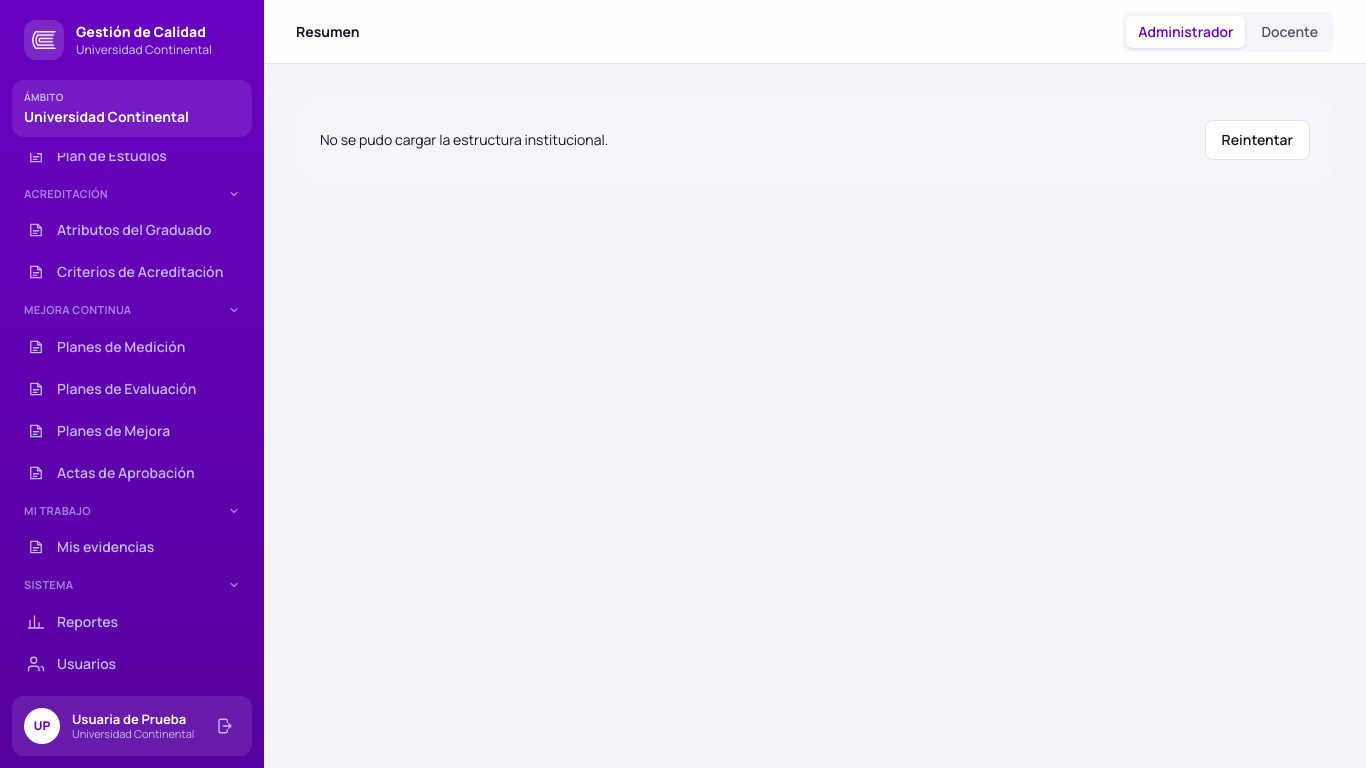
AppLayout — encabezado publicado por ResumenPage › el selector de vista no queda pegado al navegar a una página que no publica
(page scrolled)
Expected: the element named "Cambiar vista" is shown, [1122, 12, 1334, 52]
Click the link "Usuarios".
click(72, 663)  # box [27, 654, 116, 672]
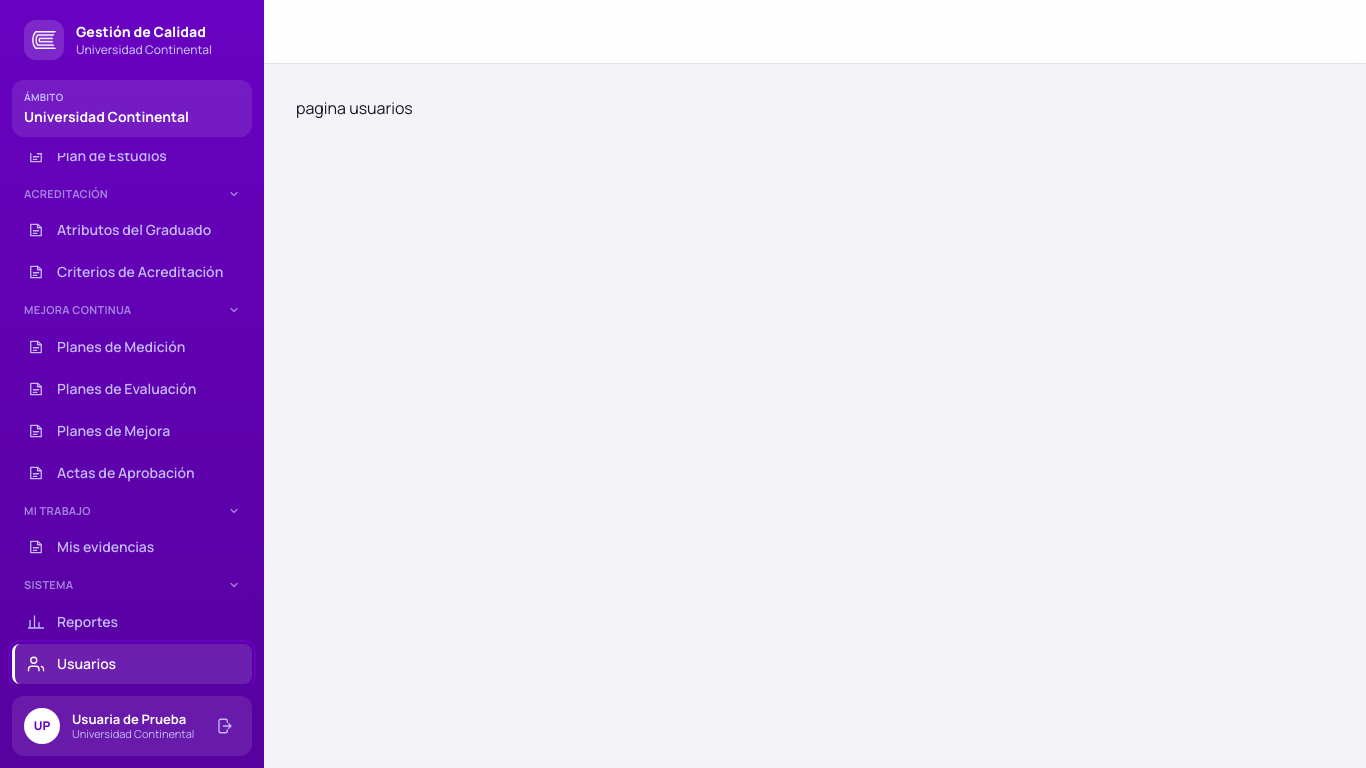
Now the text "pagina usuarios" is shown, box [296, 97, 413, 119]
